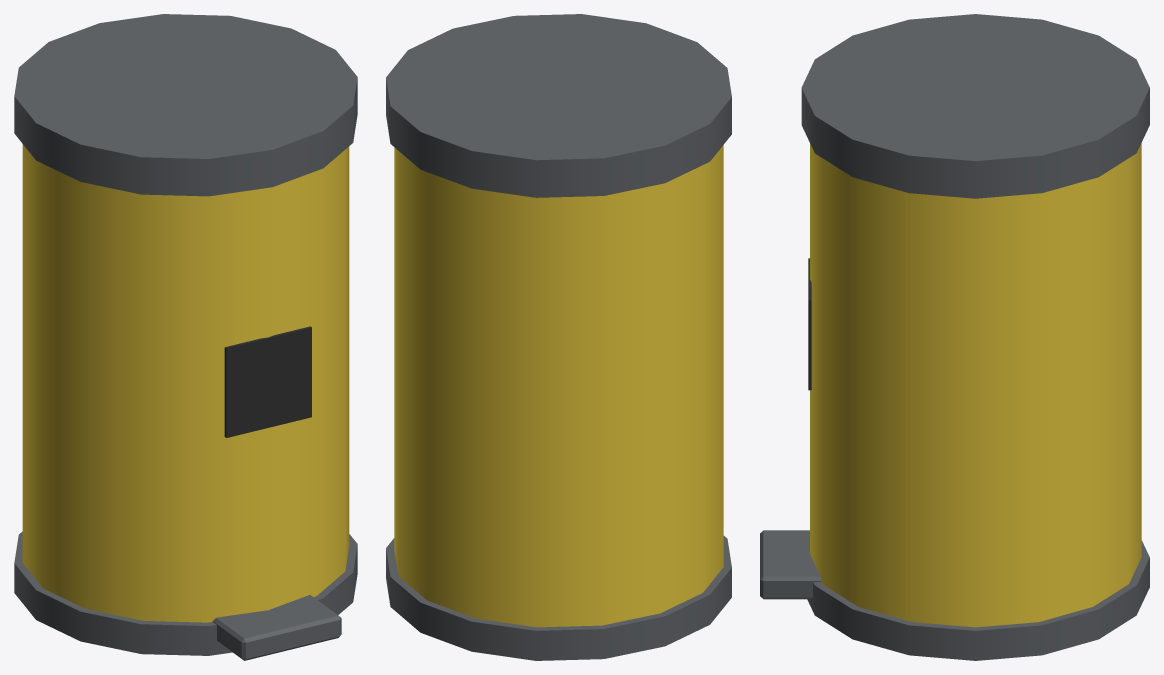
The model's file is biohazard_bin.glb.
3 views of the same model, side by side, from view 1: azimuth 30°, elevation 25°; view 2: azimuth 150°, elevation 25°; view 3: azimuth 270°, elevation 25° (orthographic).
Visible parts, largest first — view 1: biohazard_bin; view 2: biohazard_bin; view 3: biohazard_bin.
Boxes of the visible parts, x1=… form: biohazard_bin: x1=14, y1=14, x2=357, y2=660; biohazard_bin: x1=386, y1=14, x2=731, y2=660; biohazard_bin: x1=760, y1=14, x2=1149, y2=660.
Bounding box in the file's own units: 0.42 × 0.665 × 0.47.
